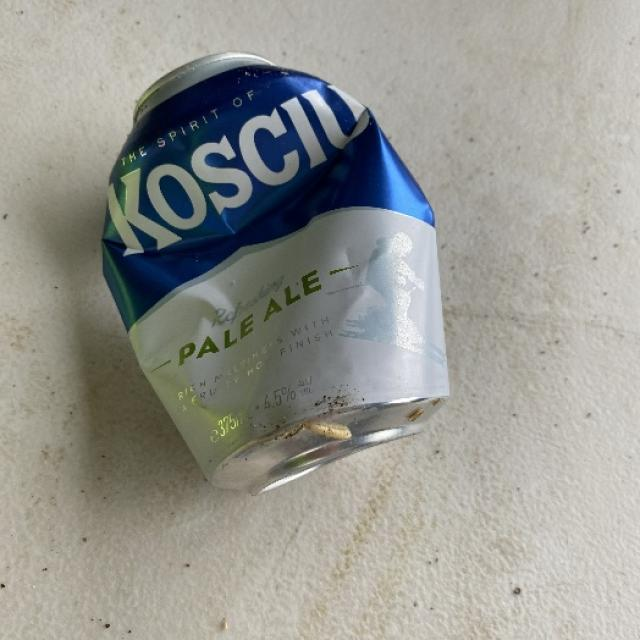metal: (100, 50, 451, 496)
